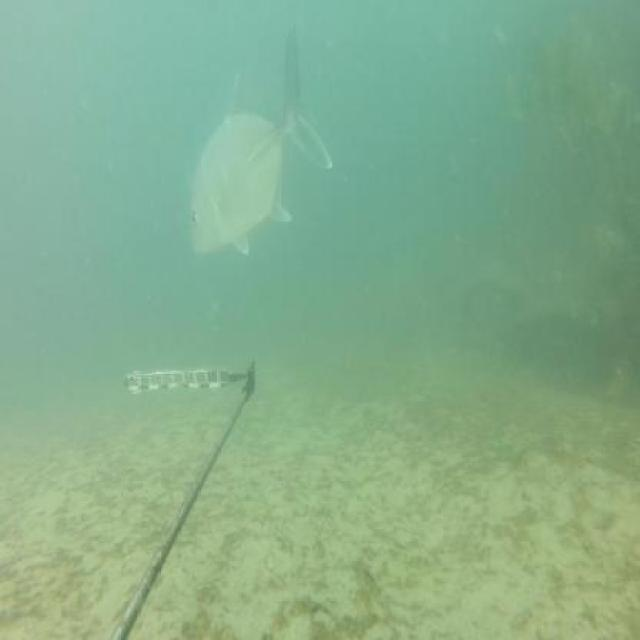Caranx: (184, 25, 336, 260)
